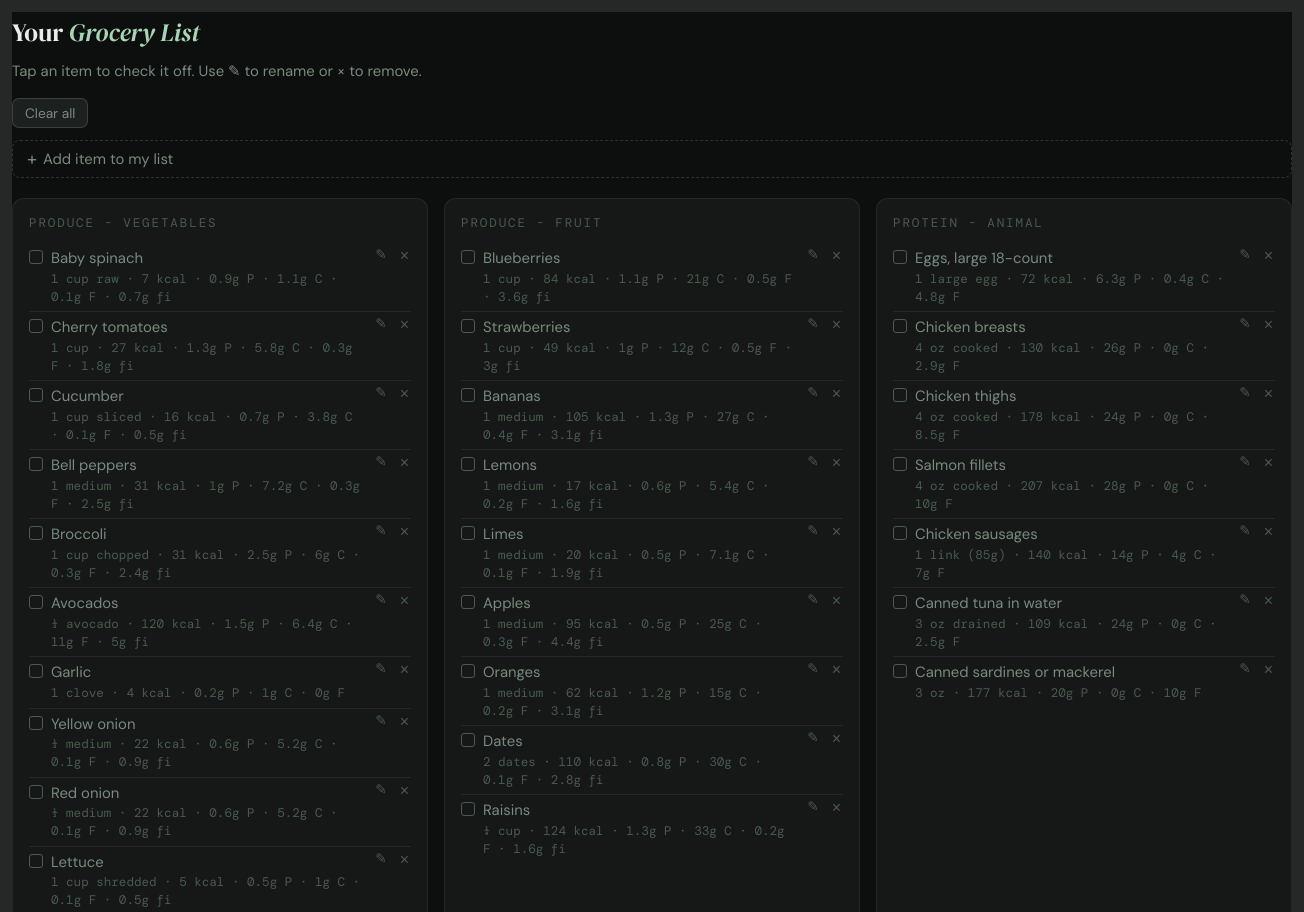
Test: GroceryPanel — dynamic catalog › user item for a standard category appears under that category header
Click the button with aria-label "add grocery item": (108, 159) [12, 140, 1292, 178]
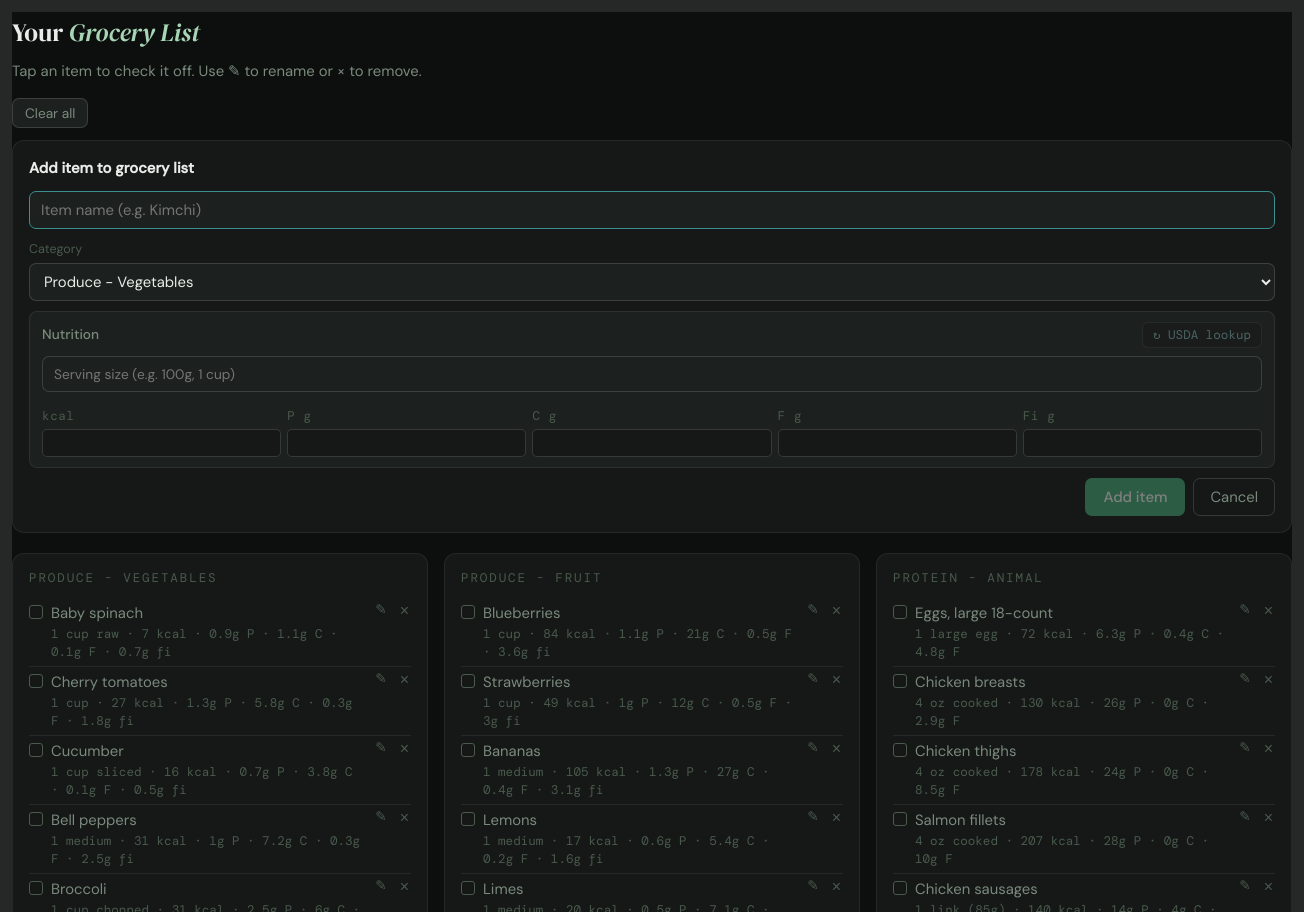
In the field with placeholder "Item name (e.g. Kimchi)": (652, 210) [29, 191, 1275, 229], type "Dragon Fruit"
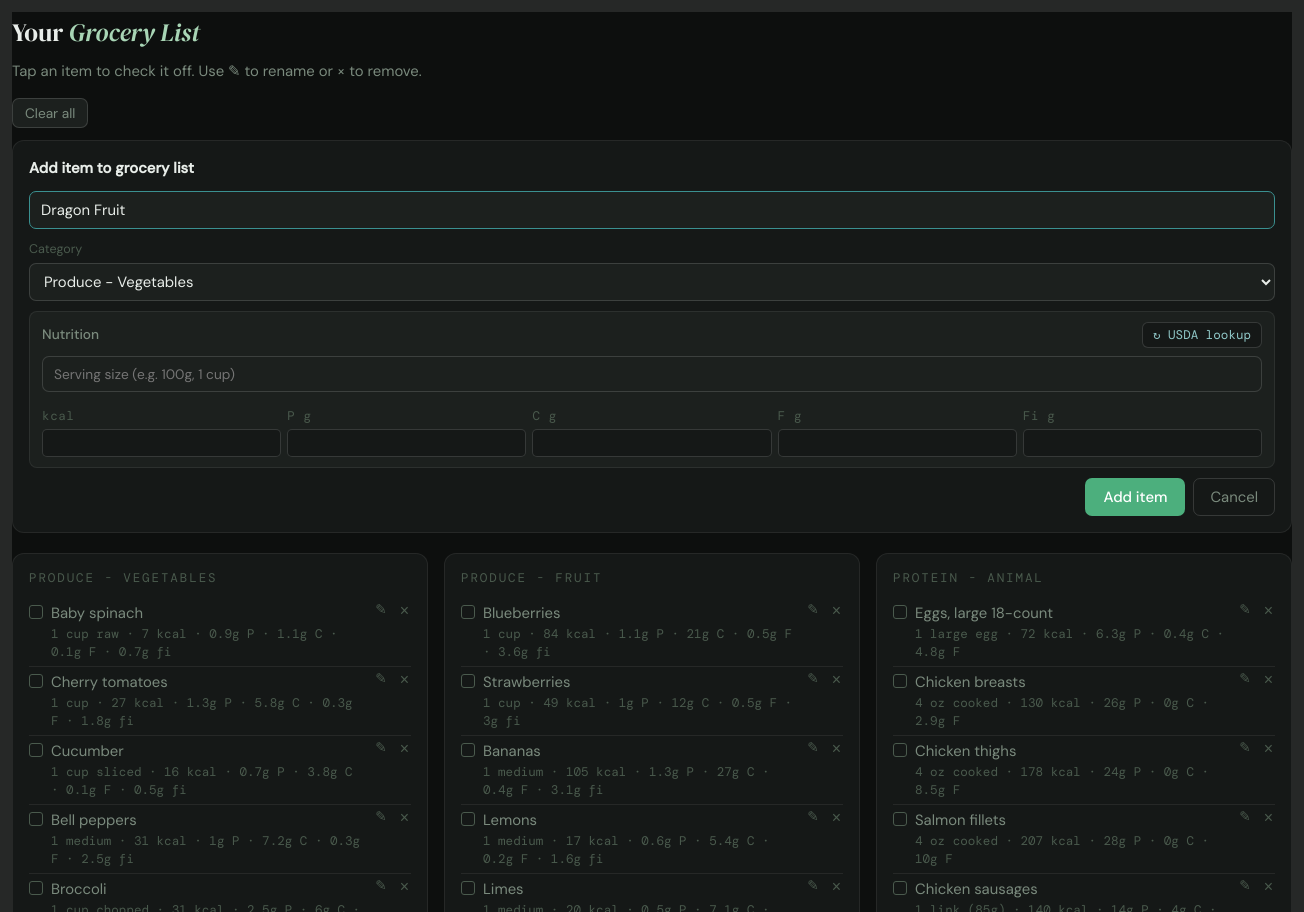
// Select "Produce - Fruit" category
Select "Produce - Fruit" in the dropdown: (652, 282) [29, 263, 1275, 301]
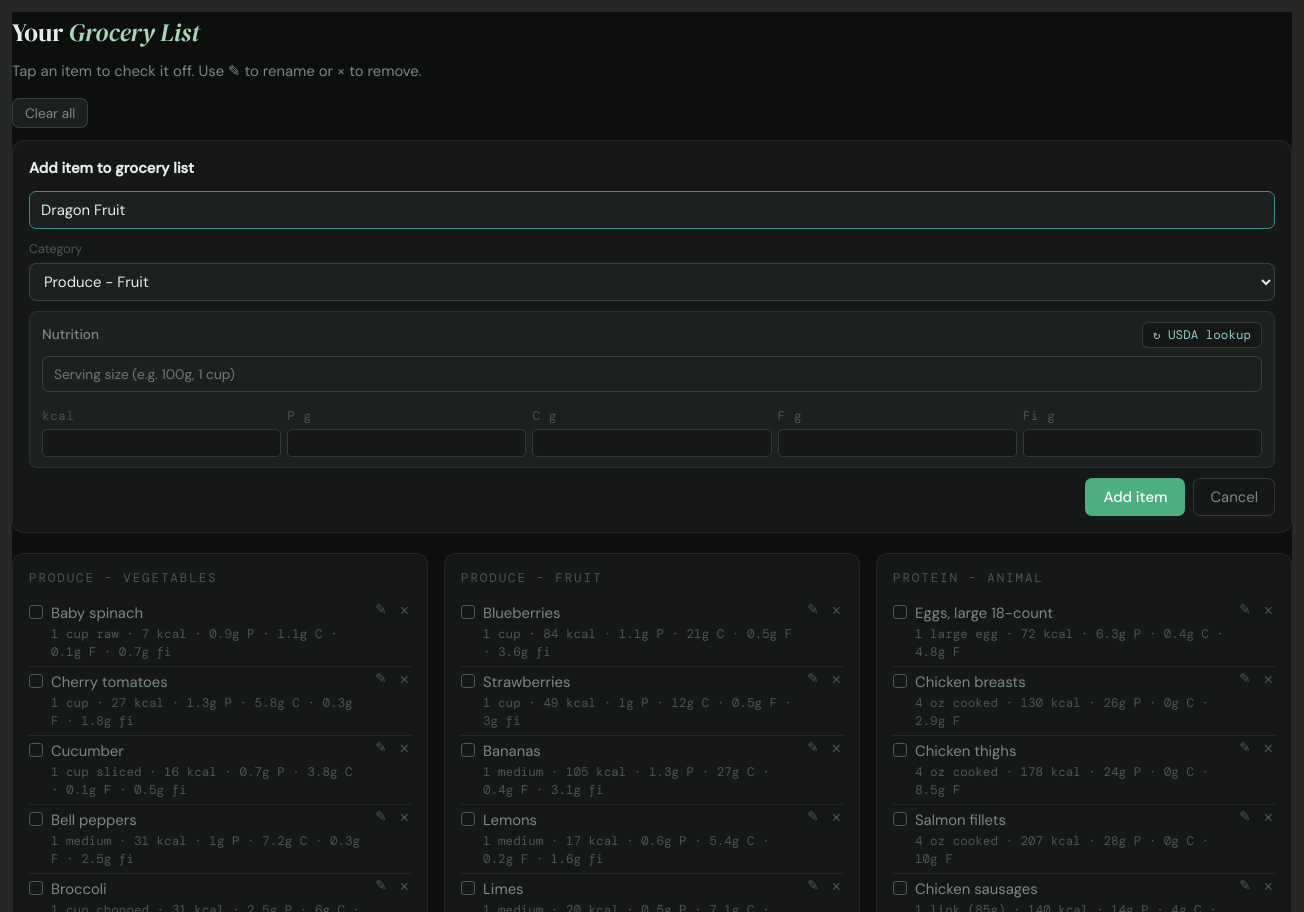
Click the button "Add item": (1136, 497) [1086, 478, 1186, 516]
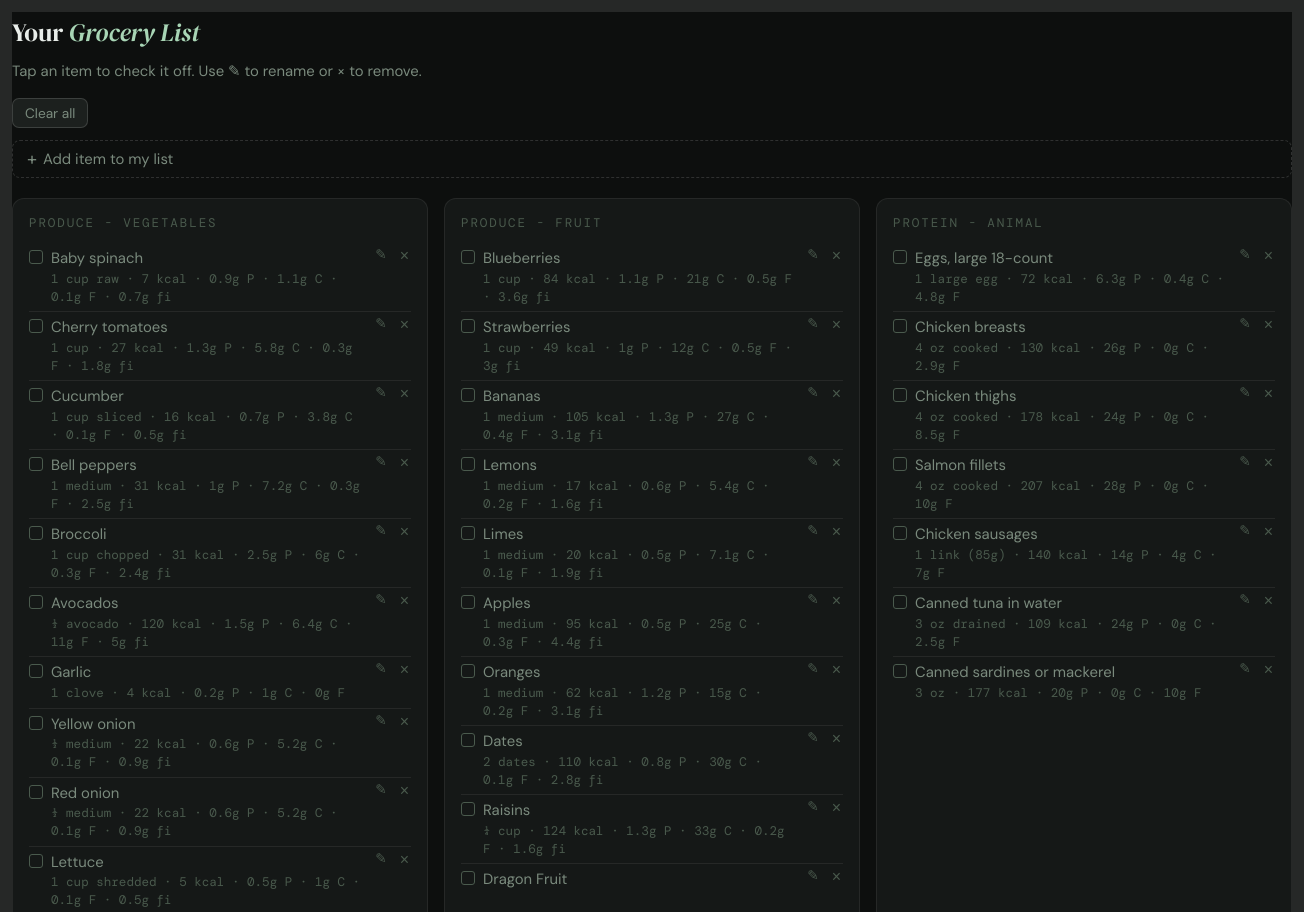
Expected: the text "Produce - Fruit" is shown, [461, 215, 602, 231]
Expected: the text "Dragon Fruit" is shown, [483, 869, 568, 889]
